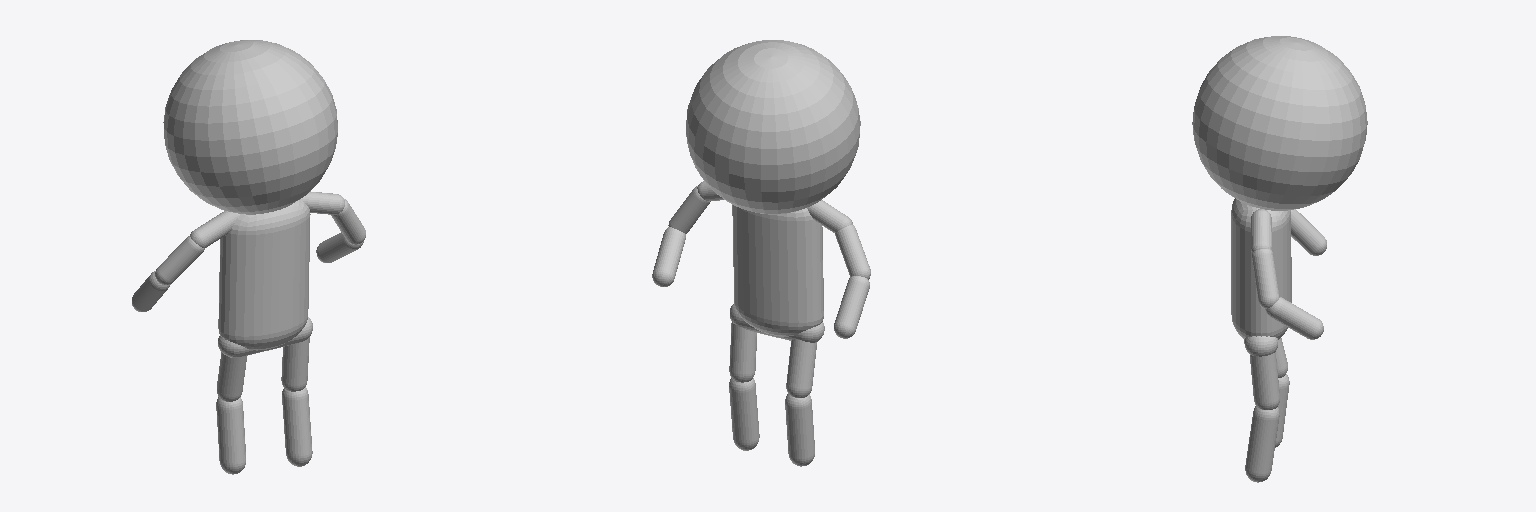
The model's file is Stickman_000056.obj.
3 renders of one model, left to right at view 1: azimuth 30°, elevation 25°; view 2: azimuth 150°, elevation 25°; view 3: azimuth 270°, elevation 25°, orthographic.
Visible parts, largest first — view 1: Head_Sphere.001, Body_Roundcube.002, LowerLegLeft_Roundcube.013, LowerLegRight_Roundcube.011, UpperLegLeft_Roundcube.012, UpperLegRight_Roundcube.010, UpperArmRight_Roundcube.015, ShoulderRight_Roundcube.014, LowerArmRight_Roundcube.016, UpperArmLeft_Roundcube.018, ShoulderLeft_Roundcube.017, LowerArmLeft_Roundcube.019 (+1 smaller); view 2: Head_Sphere.001, Body_Roundcube.002, LowerLegRight_Roundcube.011, LowerLegLeft_Roundcube.013, UpperLegRight_Roundcube.010, LowerArmRight_Roundcube.016, UpperLegLeft_Roundcube.012, LowerArmLeft_Roundcube.019, UpperArmRight_Roundcube.015, UpperArmLeft_Roundcube.018, ShoulderRight_Roundcube.014, Hip_Roundcube.005; view 3: Head_Sphere.001, Body_Roundcube.002, LowerLegLeft_Roundcube.013, UpperLegLeft_Roundcube.012, LowerArmLeft_Roundcube.019, UpperArmLeft_Roundcube.018, LowerArmRight_Roundcube.016, ShoulderLeft_Roundcube.017, Hip_Roundcube.005.
Boxes of the visible parts, x1=… form: Head_Sphere.001: x1=163, y1=40, x2=337, y2=214; Body_Roundcube.002: x1=218, y1=199, x2=310, y2=350; LowerLegLeft_Roundcube.013: x1=282, y1=387, x2=312, y2=466; LowerLegRight_Roundcube.011: x1=216, y1=397, x2=245, y2=474; UpperLegLeft_Roundcube.012: x1=281, y1=337, x2=309, y2=391; UpperLegRight_Roundcube.010: x1=217, y1=352, x2=246, y2=401; UpperArmRight_Roundcube.015: x1=155, y1=236, x2=204, y2=284; ShoulderRight_Roundcube.014: x1=190, y1=211, x2=239, y2=248; LowerArmRight_Roundcube.016: x1=132, y1=271, x2=170, y2=311; UpperArmLeft_Roundcube.018: x1=331, y1=199, x2=365, y2=244; ShoulderLeft_Roundcube.017: x1=301, y1=191, x2=344, y2=214; LowerArmLeft_Roundcube.019: x1=316, y1=232, x2=363, y2=262; Head_Sphere.001: x1=686, y1=40, x2=860, y2=214; Body_Roundcube.002: x1=732, y1=205, x2=823, y2=336; LowerLegRight_Roundcube.011: x1=785, y1=394, x2=814, y2=466; LowerLegLeft_Roundcube.013: x1=729, y1=378, x2=759, y2=450; UpperLegRight_Roundcube.010: x1=786, y1=339, x2=816, y2=397; LowerArmRight_Roundcube.016: x1=834, y1=276, x2=869, y2=338; UpperLegLeft_Roundcube.012: x1=729, y1=322, x2=756, y2=382; LowerArmLeft_Roundcube.019: x1=652, y1=227, x2=685, y2=286; UpperArmRight_Roundcube.015: x1=835, y1=225, x2=870, y2=279; UpperArmLeft_Roundcube.018: x1=668, y1=186, x2=710, y2=233; ShoulderRight_Roundcube.014: x1=807, y1=200, x2=852, y2=232; Hip_Roundcube.005: x1=730, y1=304, x2=824, y2=342; Head_Sphere.001: x1=1192, y1=36, x2=1367, y2=210; Body_Roundcube.002: x1=1231, y1=198, x2=1291, y2=339; LowerLegLeft_Roundcube.013: x1=1245, y1=406, x2=1279, y2=482; UpperLegLeft_Roundcube.012: x1=1250, y1=352, x2=1279, y2=409; LowerArmLeft_Roundcube.019: x1=1265, y1=297, x2=1323, y2=339; UpperArmLeft_Roundcube.018: x1=1252, y1=249, x2=1279, y2=308; LowerArmRight_Roundcube.016: x1=1291, y1=209, x2=1326, y2=255; ShoulderLeft_Roundcube.017: x1=1251, y1=209, x2=1271, y2=252; Hip_Roundcube.005: x1=1244, y1=336, x2=1277, y2=356.
Size of the model in its own units: 6.42 by 12.25 by 4.64.